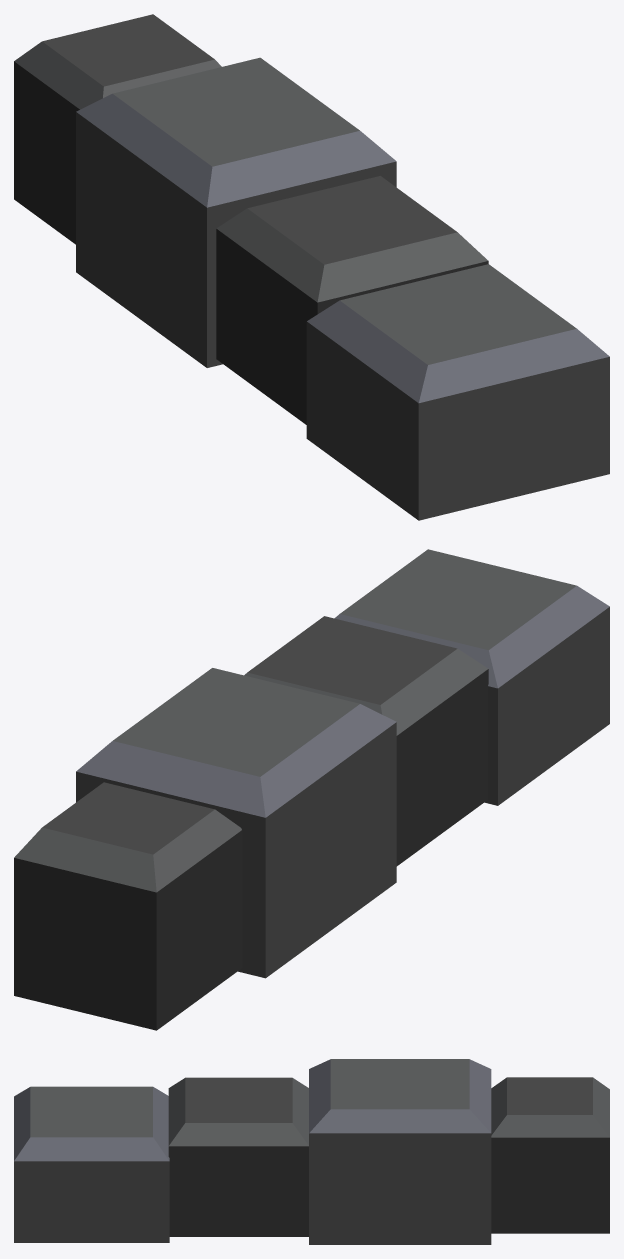
Rendered from Wall_acc_05.FBX.
The picture shows the model from 3 angles, top to bottom: view 1: azimuth 30°, elevation 25°; view 2: azimuth 150°, elevation 25°; view 3: azimuth 270°, elevation 25°; orthographic projection. The views are drawn at different scales.
Parts seen in each view (by area): view 1: wall_acc_05; view 2: wall_acc_05; view 3: wall_acc_05.
Boxes of the visible parts, x1,y1,x2,y2 form: wall_acc_05: [14, 14, 609, 520]; wall_acc_05: [14, 549, 609, 1030]; wall_acc_05: [14, 1059, 609, 1244].
Size of the model in its own units: 26.05 by 24.07 by 101.
